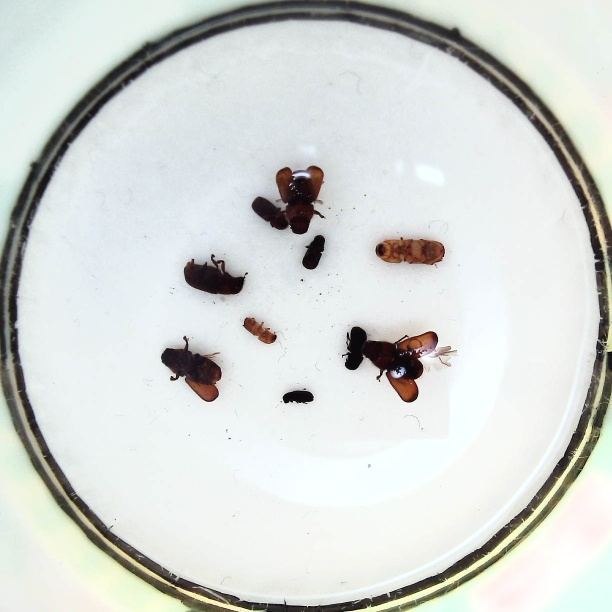acuminatus: (244, 315, 278, 346)
armandi: (338, 324, 367, 372), (300, 231, 326, 271)
boerner: (374, 238, 447, 266)
coleoptera: (278, 388, 315, 408)
leconte: (361, 330, 457, 404), (159, 338, 224, 404), (277, 163, 327, 236), (184, 255, 246, 298)
linnaeus: (251, 193, 287, 231)
